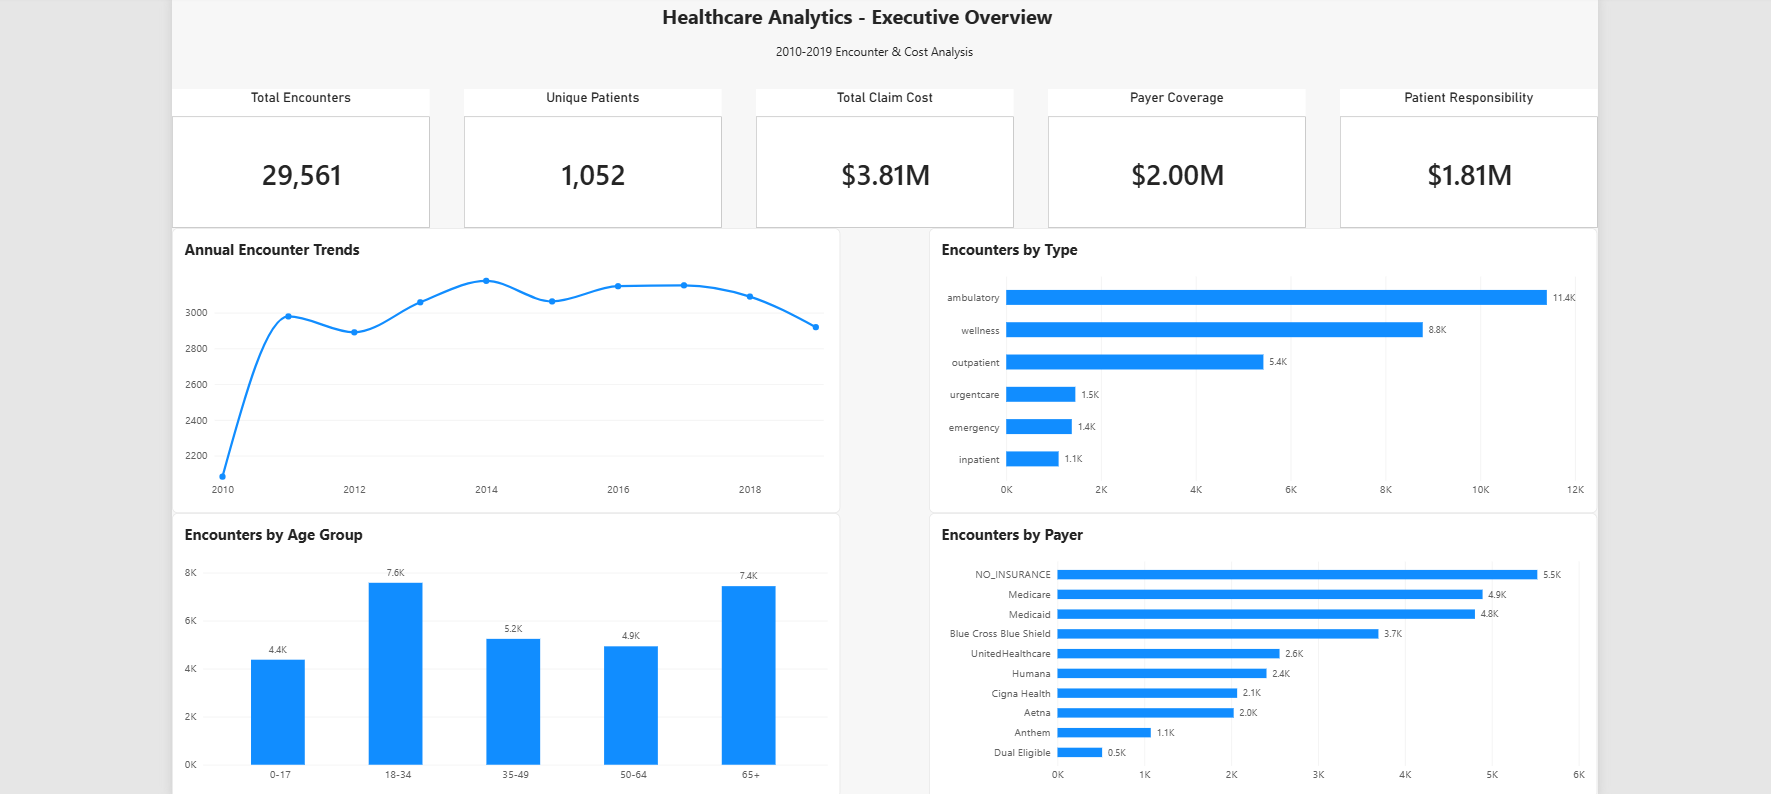

The page's visual inventory and layout, read from the dashboard file:
{"tool":"powerbi","page":{"name":"Executive Overview","canvas":[1920,1080],"ordinal":0},"visuals":[{"type":"cardVisual","title":"Total Encounters","fields":{"Data":["Sum(gold_executive_kpis.TOTAL_ENCOUNTERS)"]},"box":[0,124.7,347,187],"z":0},{"type":"cardVisual","title":"Unique Patients","fields":{"Data":["Sum(gold_executive_kpis.UNIQUE_PATIENTS)"]},"box":[393.2,124.7,347,187],"z":1000},{"type":"cardVisual","title":"Total Claim Cost","fields":{"Data":["Sum(gold_executive_kpis.TOTAL_CLAIM_COST)"]},"box":[786.5,124.7,347,187],"z":2000},{"type":"cardVisual","title":"Payer Coverage","fields":{"Data":["Sum(gold_executive_kpis.TOTAL_PAYER_COVERAGE)"]},"box":[1179.8,124.7,347,187],"z":3000},{"type":"cardVisual","title":"Patient Responsibility","fields":{"Data":["Sum(gold_executive_kpis.TOTAL_PATIENT_RESPONSIBILITY)"]},"box":[1573,124.7,347,187],"z":4000},{"type":"lineChart","title":"Annual Encounter Trends","fields":{"Category":["gold_encounter_trends.YEAR"],"Y":["Sum(gold_encounter_trends.TOTAL_ENCOUNTERS)"]},"box":[0,312,900,384],"z":5000},{"type":"clusteredBarChart","title":"Encounters by Type","fields":{"Category":["gold_encounter_types.ENCOUNTER_TYPE"],"Y":["Sum(gold_encounter_types.TOTAL_ENCOUNTERS)"]},"box":[1020,312.1,900,384],"z":6000},{"type":"clusteredColumnChart","title":"Encounters by Age Group","fields":{"Category":["gold_patient_demographics.AGE_GROUP"],"Y":["Sum(gold_patient_demographics.TOTAL_ENCOUNTERS)"]},"box":[0,696,900,384],"z":7000},{"type":"barChart","title":"Encounters by Payer","fields":{"Category":["gold_payer_performance.PAYER_NAME"],"Y":["Sum(gold_payer_performance.TOTAL_ENCOUNTERS)"]},"box":[1019.9,696,900,384],"z":8000},{"type":"textbox","box":[660,8,599,40],"z":9000},{"type":"textbox","box":[813,63,294,46],"z":10000}]}

Visuals, with their boxes on the page's 1920x1080 design canvas (x1, y1, x2, y2). These are canvas units, not pixel positions in the 1771x794 screenshot, which may show the page scaled, cropped or inside an application window:
"Total Encounters" cardVisual: (left=0, top=125, right=347, bottom=312)
"Unique Patients" cardVisual: (left=393, top=125, right=740, bottom=312)
"Total Claim Cost" cardVisual: (left=786, top=125, right=1134, bottom=312)
"Payer Coverage" cardVisual: (left=1180, top=125, right=1527, bottom=312)
"Patient Responsibility" cardVisual: (left=1573, top=125, right=1920, bottom=312)
"Annual Encounter Trends" lineChart: (left=0, top=312, right=900, bottom=696)
"Encounters by Type" clusteredBarChart: (left=1020, top=312, right=1920, bottom=696)
"Encounters by Age Group" clusteredColumnChart: (left=0, top=696, right=900, bottom=1080)
"Encounters by Payer" barChart: (left=1020, top=696, right=1920, bottom=1080)
textbox: (left=660, top=8, right=1259, bottom=48)
textbox: (left=813, top=63, right=1107, bottom=109)
